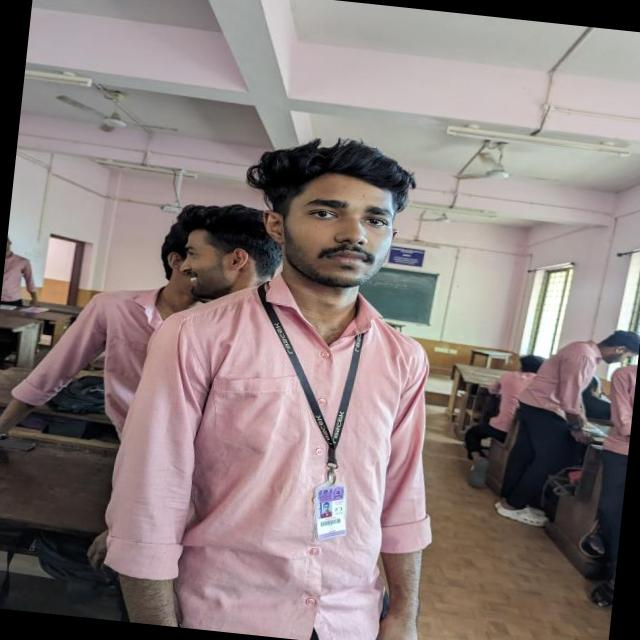id_card: (285, 327, 368, 541)
